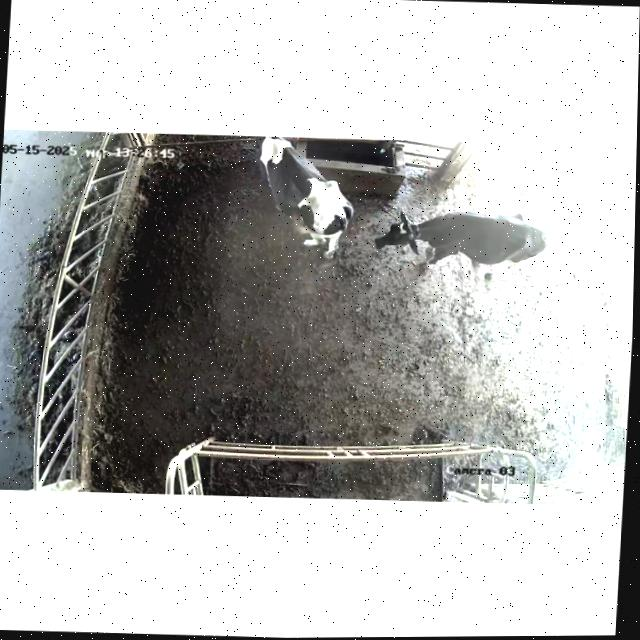stand: (254, 136, 353, 259), (374, 210, 546, 268)
